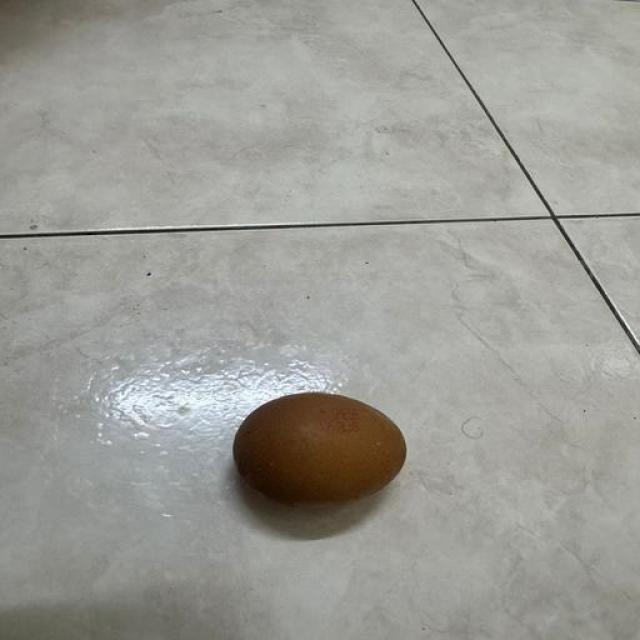organic: (234, 393, 406, 503)
